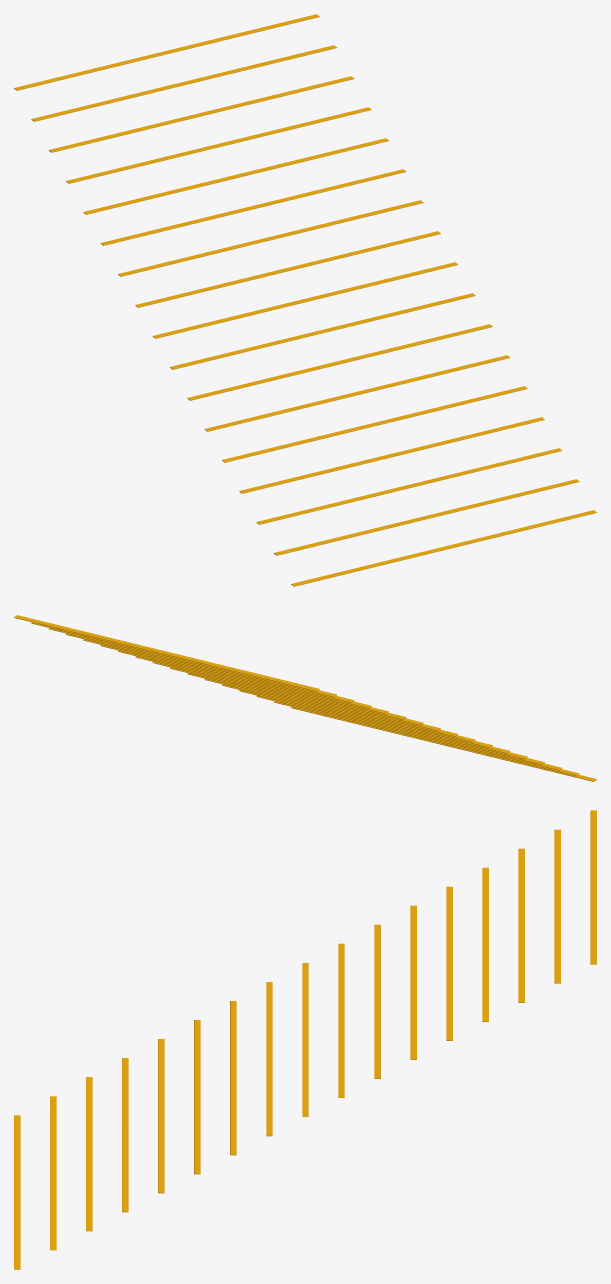
Rendered from gteki_ik_stair_n17_r1756_t301_w3054_nosing.glb.
3 views of the same model, one above another, from view 1: azimuth 30°, elevation 25°; view 2: azimuth 150°, elevation 25°; view 3: azimuth 270°, elevation 25° (orthographic). The views are drawn at different scales.
Visible parts, largest first — view 1: VIS_nosings; view 2: VIS_nosings; view 3: VIS_nosings.
Boxes of the visible parts, x1,y1,x2,y2 form: VIS_nosings: (14,14,596,586); VIS_nosings: (14,615,596,781); VIS_nosings: (14,810,596,1269).
Bounding box in the file's own units: 3.04 × 2.82 × 4.87.
